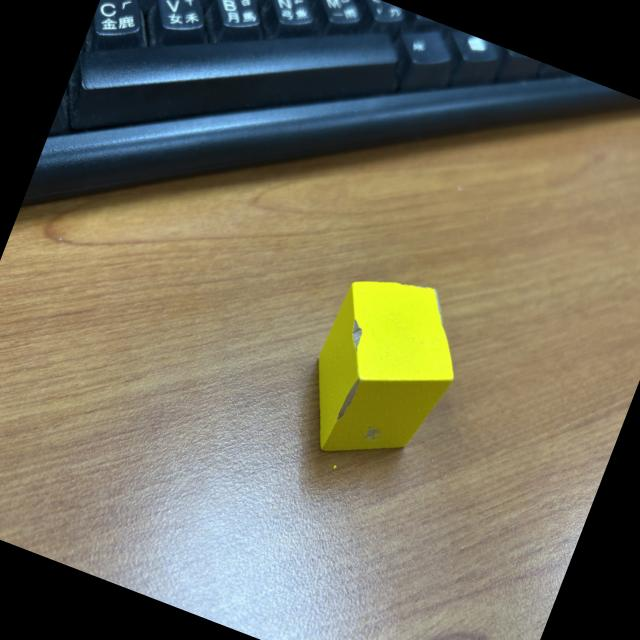broken: (288, 260, 480, 483)
